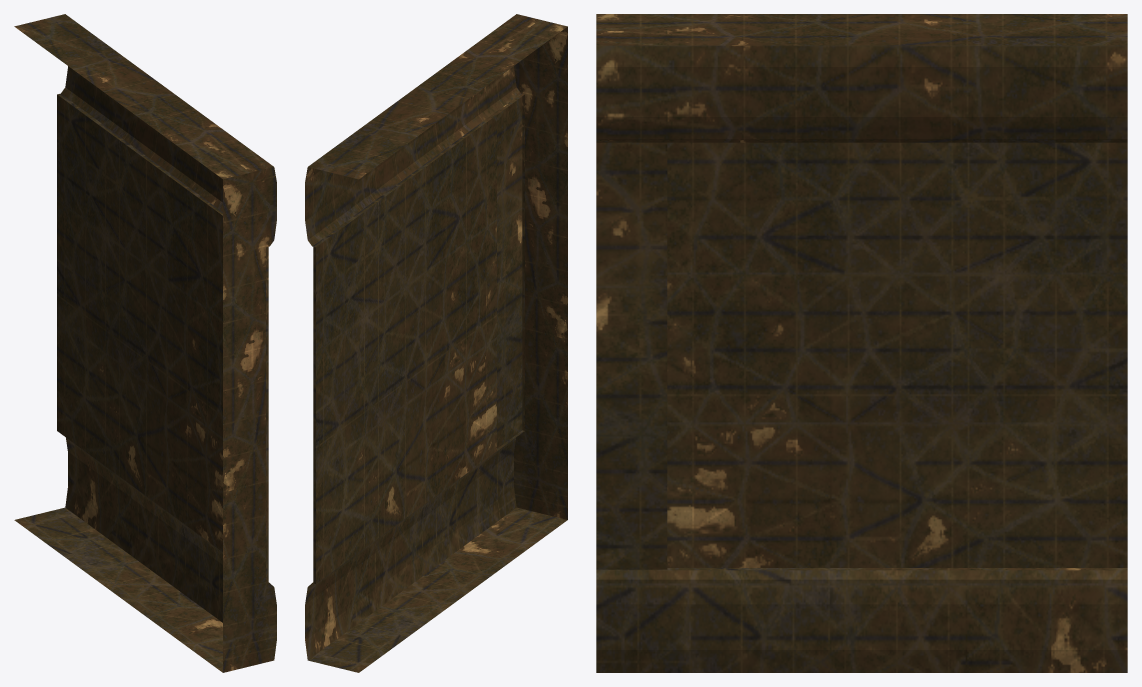
File: wallPrefab1x1-noSideModEdit.fbx
3 renders of one model, left to right at view 1: azimuth 30°, elevation 25°; view 2: azimuth 150°, elevation 25°; view 3: azimuth 270°, elevation 25°, orthographic. The views are drawn at different scales.
Visible parts, largest first — view 1: wallPrefab1x1; view 2: wallPrefab1x1; view 3: wallPrefab1x1.
Part boxes in pixels (x1=…): wallPrefab1x1: x1=14, y1=14, x2=276, y2=672; wallPrefab1x1: x1=305, y1=14, x2=567, y2=672; wallPrefab1x1: x1=596, y1=14, x2=1127, y2=672.
Size of the model in its own units: 25.03 by 220 by 168.
